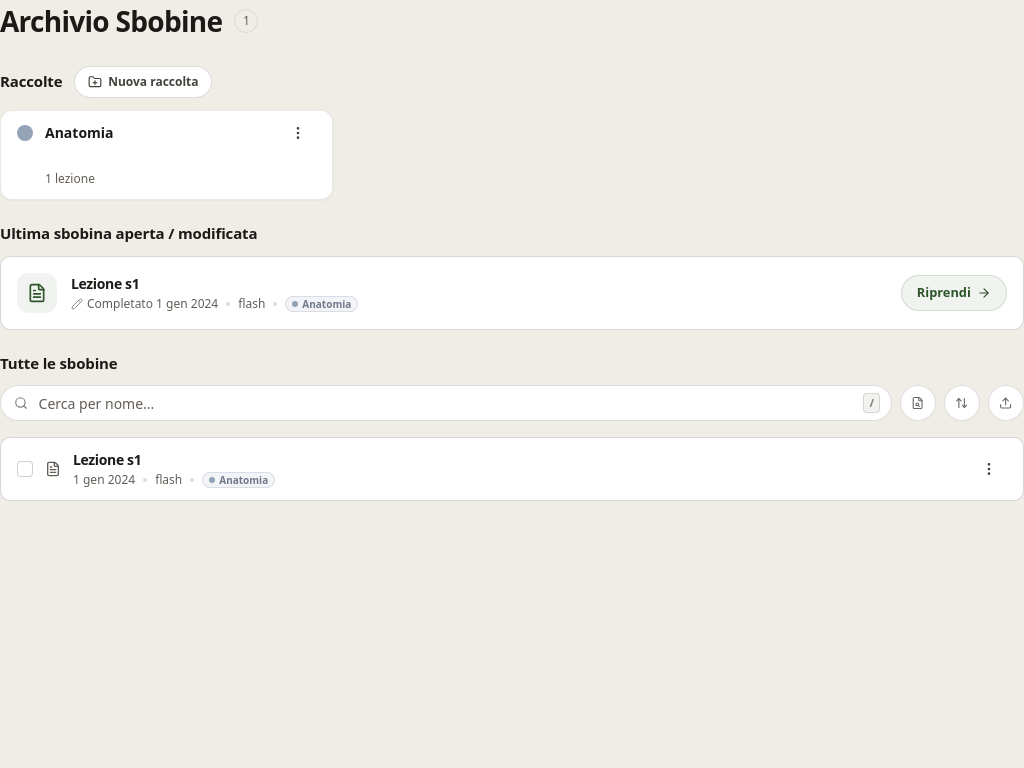
Scenario: ArchivePage › renames a lesson from its menu (inside collection: true)
Click the text "Anatomia" below "Raccolte". click: (79, 132)
box: [45, 123, 114, 142]
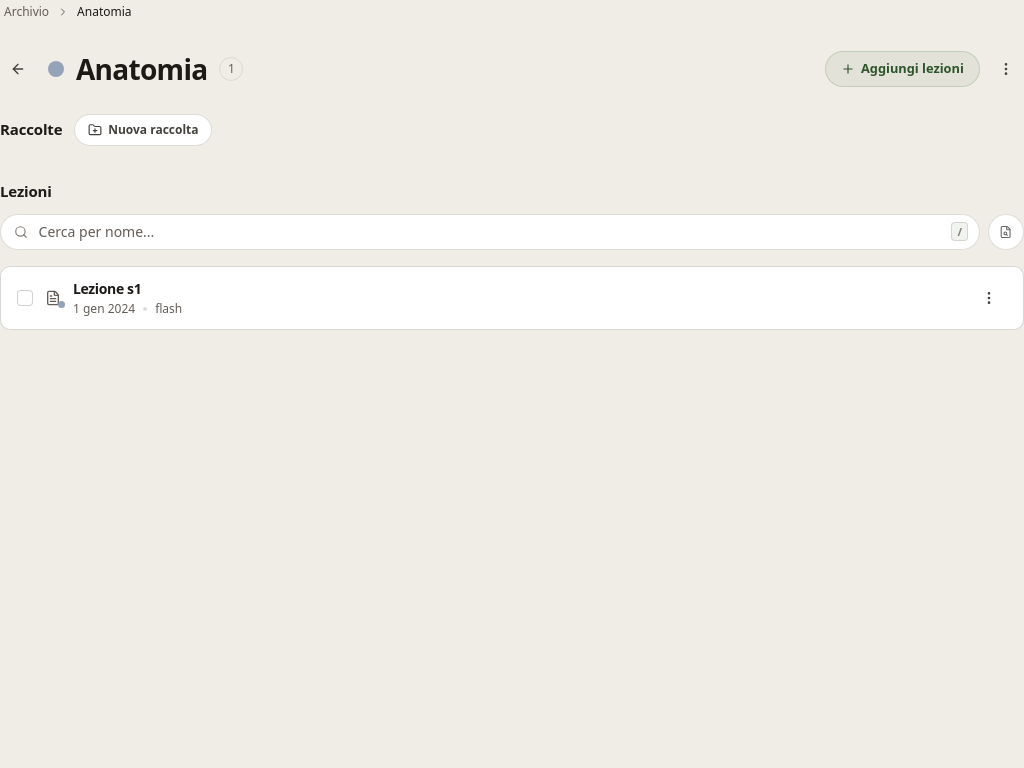
Click the 2nd button named "Altre opzioni". click: (989, 298)
box: [971, 280, 1007, 316]
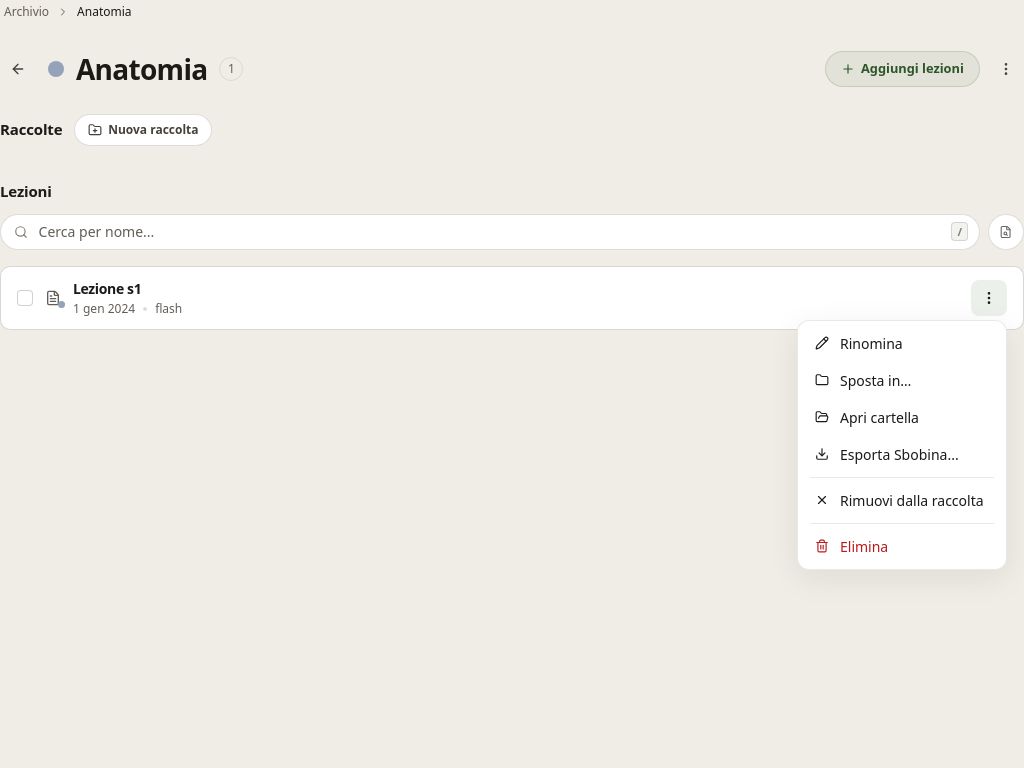
Click the button "Rinomina". click: (902, 343)
box: [802, 324, 1002, 362]
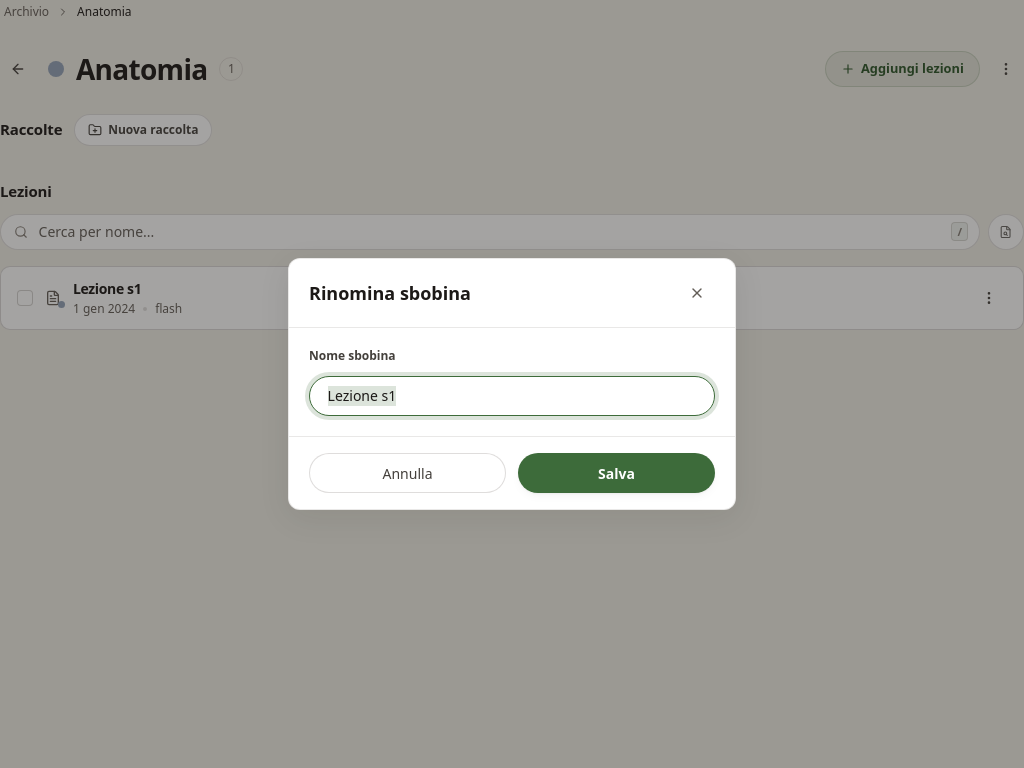
Result: the field labelled "Nome sbobina" holds "Lezione s1"
Replace the text in the field labelled "Nome sbobina" with "  Apparato locomotore  ". click: (512, 396)
box: [309, 376, 715, 416]
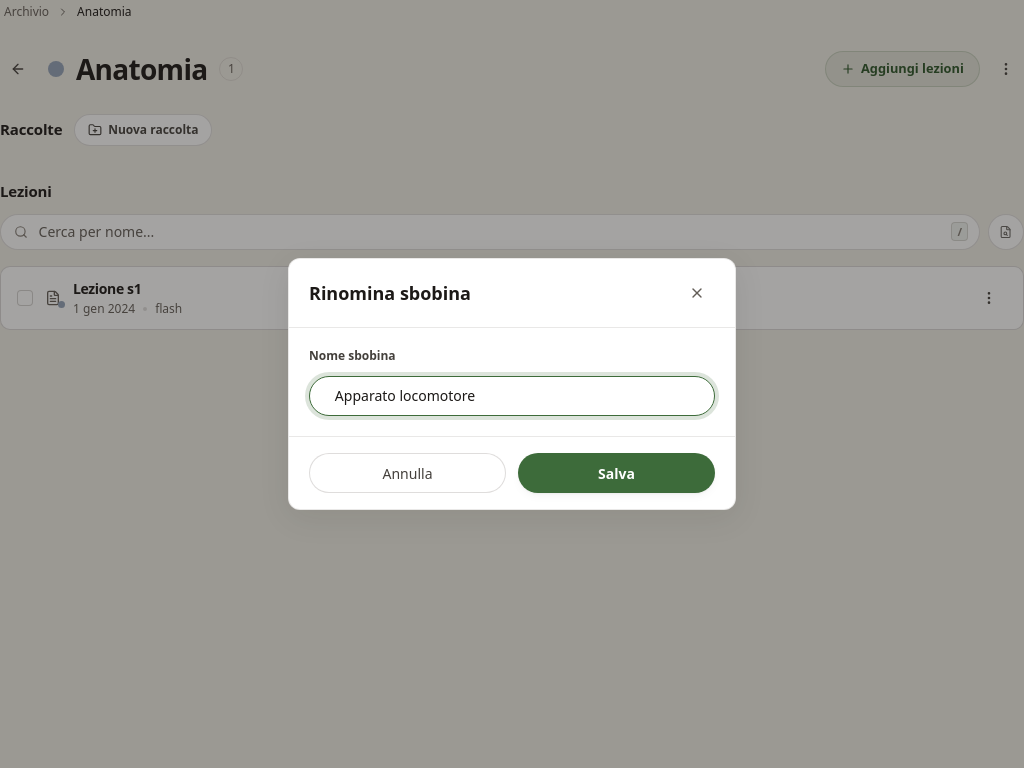
Click the button "Salva". click: (616, 473)
box: [518, 453, 715, 493]
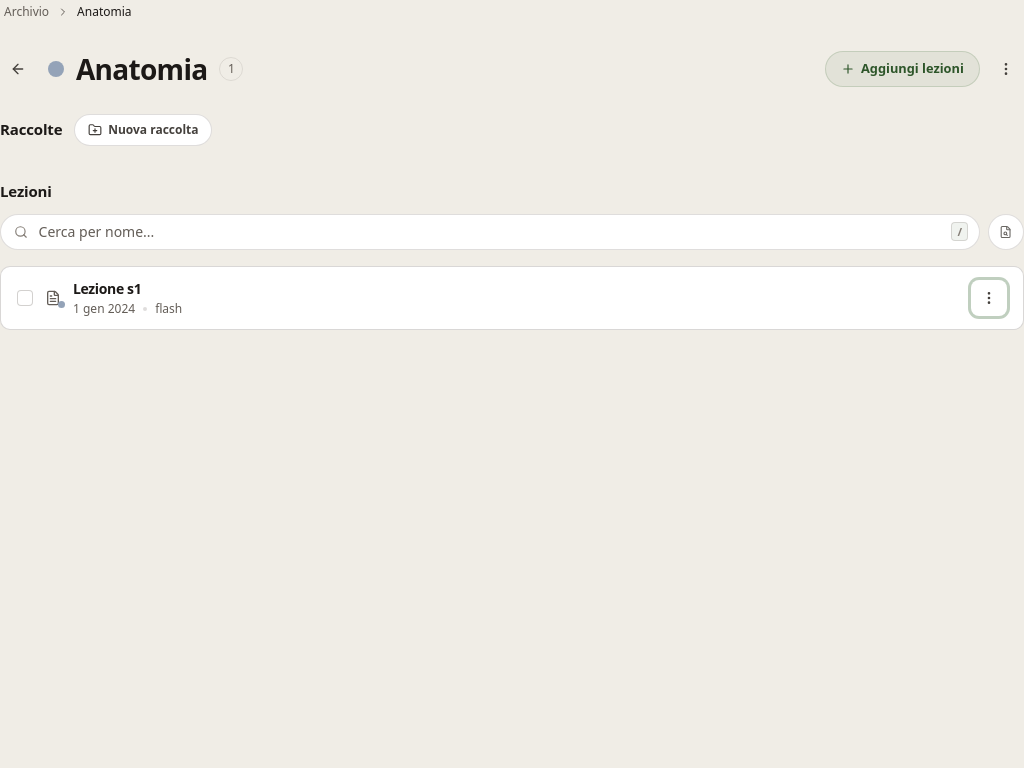
Result: the dialog is gone
